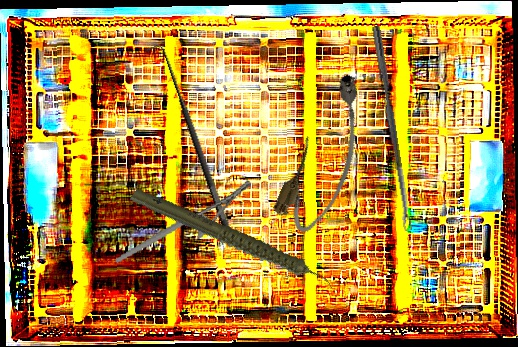Cannula: (269, 67, 386, 240)
Handpiece: (127, 150, 337, 333)
Hook Surgical: (144, 40, 234, 238)
Needle Holder: (104, 178, 263, 264)
Surgical Spoon: (370, 25, 413, 232)
